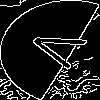V: (24, 25, 100, 74)
